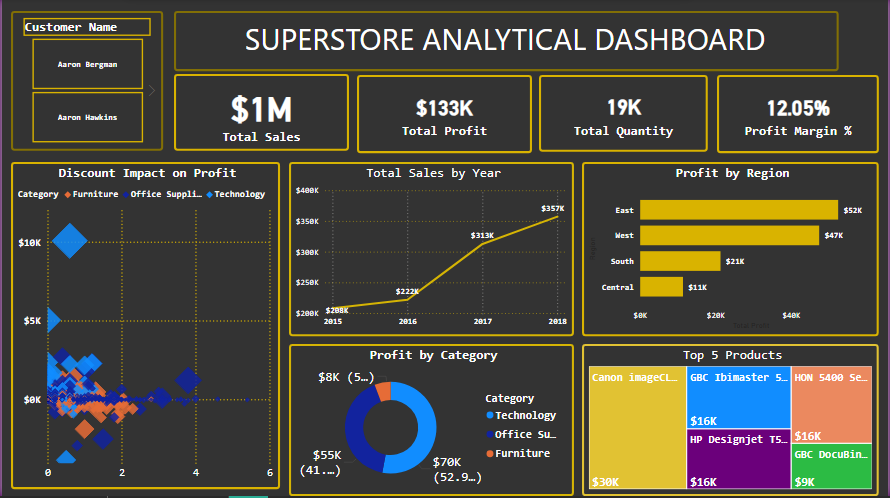

What the dashboard file says about the page in this screenshot:
{"tool":"powerbi","page":{"name":"DASHBOARD 1","canvas":[1280,720],"ordinal":0},"visuals":[{"type":"textbox","box":[248.7,18.8,961.4,86.7],"z":0},{"type":"slicer","fields":{"Values":["Super Store.Customer Name"]},"box":[13,18.8,219.8,202.4],"z":1000},{"type":"card","fields":{"Values":["Super Store.Total Sales"]},"box":[248.7,109.9,253,111.3],"z":2000},{"type":"card","fields":{"Values":["Super Store.Total Profit"]},"box":[513.3,111.3,253,112.8],"z":3000},{"type":"card","fields":{"Values":["Super Store.Profit Margin %"]},"box":[1033.7,111.3,234.2,112.8],"z":4000},{"type":"card","fields":{"Values":["Super Store.Total Quantity"]},"box":[776.4,111.3,244.3,111.3],"z":5000},{"type":"lineChart","fields":{"Y":["Super Store.Total Sales"],"Category":["Super Store.Order Date.Variation.Date Hierarchy.Year","Super Store.Order Date.Variation.Date Hierarchy.Quarter","Super Store.Order Date.Variation.Date Hierarchy.Month","Super Store.Order Date.Variation.Date Hierarchy.Day"]},"box":[414.9,237.1,412,251.6],"z":6000},{"type":"donutChart","title":"Profit by Category","fields":{"Y":["Super Store.Total Profit"],"Category":["Super Store.Category"]},"box":[414.9,500.2,412,219.8],"z":7000},{"type":"treemap","title":"Top 5 Products","fields":{"Values":["Super Store.Total Sales"],"Group":["Super Store.Product Name"]},"box":[838.6,500.2,429.4,219.8],"z":8000},{"type":"clusteredBarChart","title":"Profit by Region","fields":{"Y":["Super Store.Total Profit"],"Category":["Super Store.Region"]},"box":[838.6,237.1,429.4,251.6],"z":9000},{"type":"scatterChart","title":"Discount Impact on Profit","fields":{"X":["Sum(Super Store.Discount)"],"Y":["Super Store.Total Profit"],"Category":["Super Store.Product Name"],"Series":["Super Store.Category"],"Size":["Super Store.Total Sales"]},"box":[13,237.1,388.9,472.8],"z":10000}]}

Visuals, with their boxes in screenshot pixels (x1, y1, x2, y2), scaled from the page's 1280x720 canvas onto the 890x498 screenshot:
textbox: bbox=[173, 13, 841, 73]
slicer - Super Store.Customer Name: bbox=[9, 13, 162, 153]
card - Super Store.Total Sales: bbox=[173, 76, 349, 153]
card - Super Store.Total Profit: bbox=[357, 77, 533, 155]
card - Super Store.Profit Margin %: bbox=[719, 77, 882, 155]
card - Super Store.Total Quantity: bbox=[540, 77, 710, 154]
lineChart - Super Store.Total Sales x Super Store.Order Date.Variation.Date Hierarchy.Year: bbox=[288, 164, 575, 338]
"Profit by Category" donutChart: bbox=[288, 346, 575, 497]
"Top 5 Products" treemap: bbox=[583, 346, 882, 497]
"Profit by Region" clusteredBarChart: bbox=[583, 164, 882, 338]
"Discount Impact on Profit" scatterChart: bbox=[9, 164, 279, 491]
